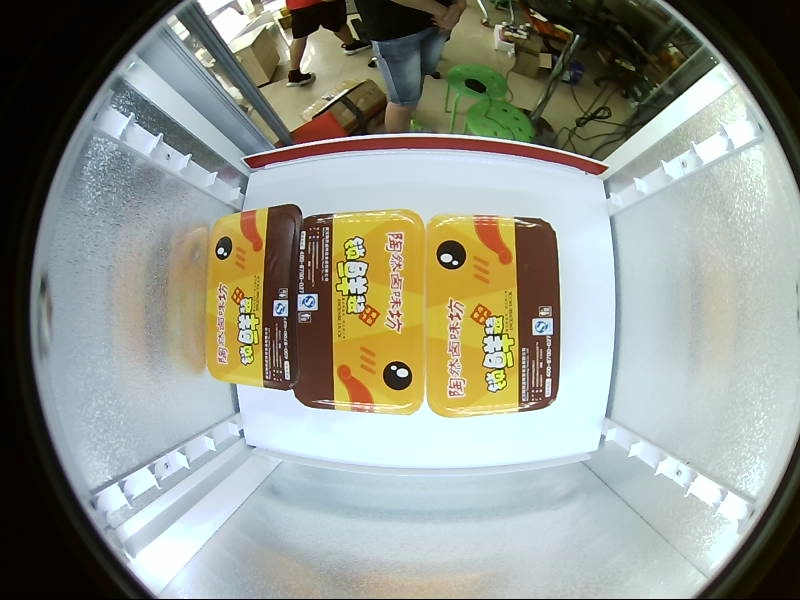ops-m155: (234, 169, 567, 464), (271, 116, 578, 356), (232, 319, 538, 558), (193, 240, 434, 528), (273, 200, 567, 416), (366, 179, 564, 479), (341, 340, 606, 563), (192, 173, 377, 466), (284, 199, 525, 422), (446, 130, 651, 384), (120, 254, 332, 497), (381, 133, 626, 342), (371, 298, 570, 552), (326, 327, 537, 564), (381, 308, 575, 557), (356, 73, 562, 301), (371, 322, 568, 559), (204, 323, 399, 561), (356, 232, 570, 443), (304, 149, 528, 349), (344, 265, 545, 478), (280, 405, 556, 560), (439, 314, 654, 507), (363, 159, 579, 350), (477, 295, 645, 539), (363, 113, 575, 306), (315, 413, 579, 566), (372, 271, 580, 465), (362, 302, 563, 501), (452, 162, 650, 363), (376, 268, 566, 477), (234, 286, 435, 472), (365, 118, 573, 295), (475, 316, 658, 515), (476, 217, 643, 435), (485, 202, 665, 404), (482, 209, 661, 412), (146, 402, 367, 562), (129, 369, 332, 542), (456, 202, 630, 403), (195, 213, 377, 404), (467, 265, 639, 467), (242, 321, 446, 490), (131, 386, 329, 559), (128, 381, 322, 556), (465, 308, 639, 496), (459, 389, 652, 557), (461, 383, 653, 551), (462, 307, 635, 493), (458, 384, 651, 550), (456, 70, 648, 236), (450, 306, 625, 488), (346, 202, 494, 414), (194, 269, 349, 465), (523, 322, 661, 541), (322, 299, 482, 487), (289, 227, 435, 432), (221, 289, 377, 480), (423, 209, 565, 418), (517, 88, 659, 295), (400, 203, 540, 412), (325, 308, 481, 493), (377, 133, 580, 275), (294, 122, 496, 264), (348, 232, 543, 379), (291, 207, 426, 415), (407, 289, 596, 434), (400, 190, 535, 392), (418, 195, 552, 398), (554, 172, 660, 427), (287, 194, 419, 397), (405, 323, 550, 505), (395, 304, 536, 487), (407, 322, 548, 502), (307, 317, 446, 499), (301, 114, 438, 298), (284, 306, 420, 490), (300, 317, 434, 503), (428, 114, 566, 294), (228, 353, 415, 485), (364, 113, 557, 240), (418, 318, 549, 502), (400, 114, 535, 292), (472, 294, 596, 483), (491, 125, 623, 301), (485, 211, 644, 357), (350, 113, 544, 232), (337, 116, 531, 234), (475, 227, 632, 370), (197, 227, 354, 369), (468, 124, 623, 260), (470, 120, 631, 250), (333, 121, 525, 230), (204, 353, 358, 488), (515, 126, 633, 299), (474, 132, 640, 253), (526, 326, 643, 497), (201, 234, 307, 422), (465, 363, 623, 489), (523, 278, 632, 460), (206, 302, 319, 477), (468, 118, 626, 243), (524, 329, 642, 495), (537, 214, 637, 405), (520, 125, 632, 291), (206, 310, 312, 484), (518, 126, 629, 291), (523, 300, 626, 473), (533, 196, 628, 381)
